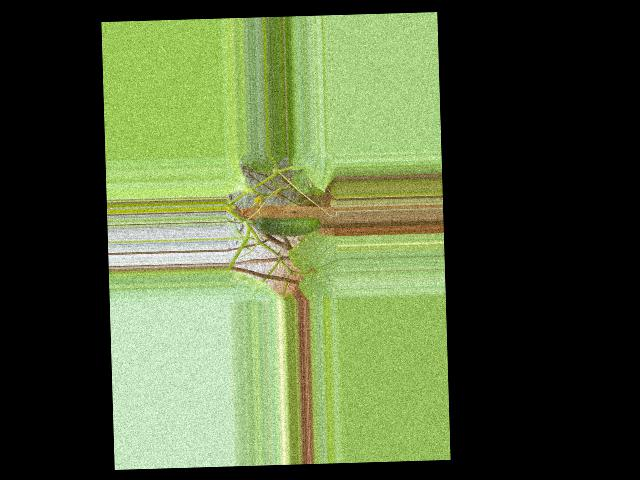cucumber: (254, 214, 321, 237)
